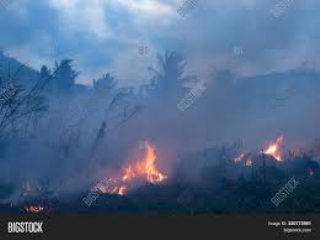fire: (105, 137, 174, 194), (255, 136, 294, 166)
